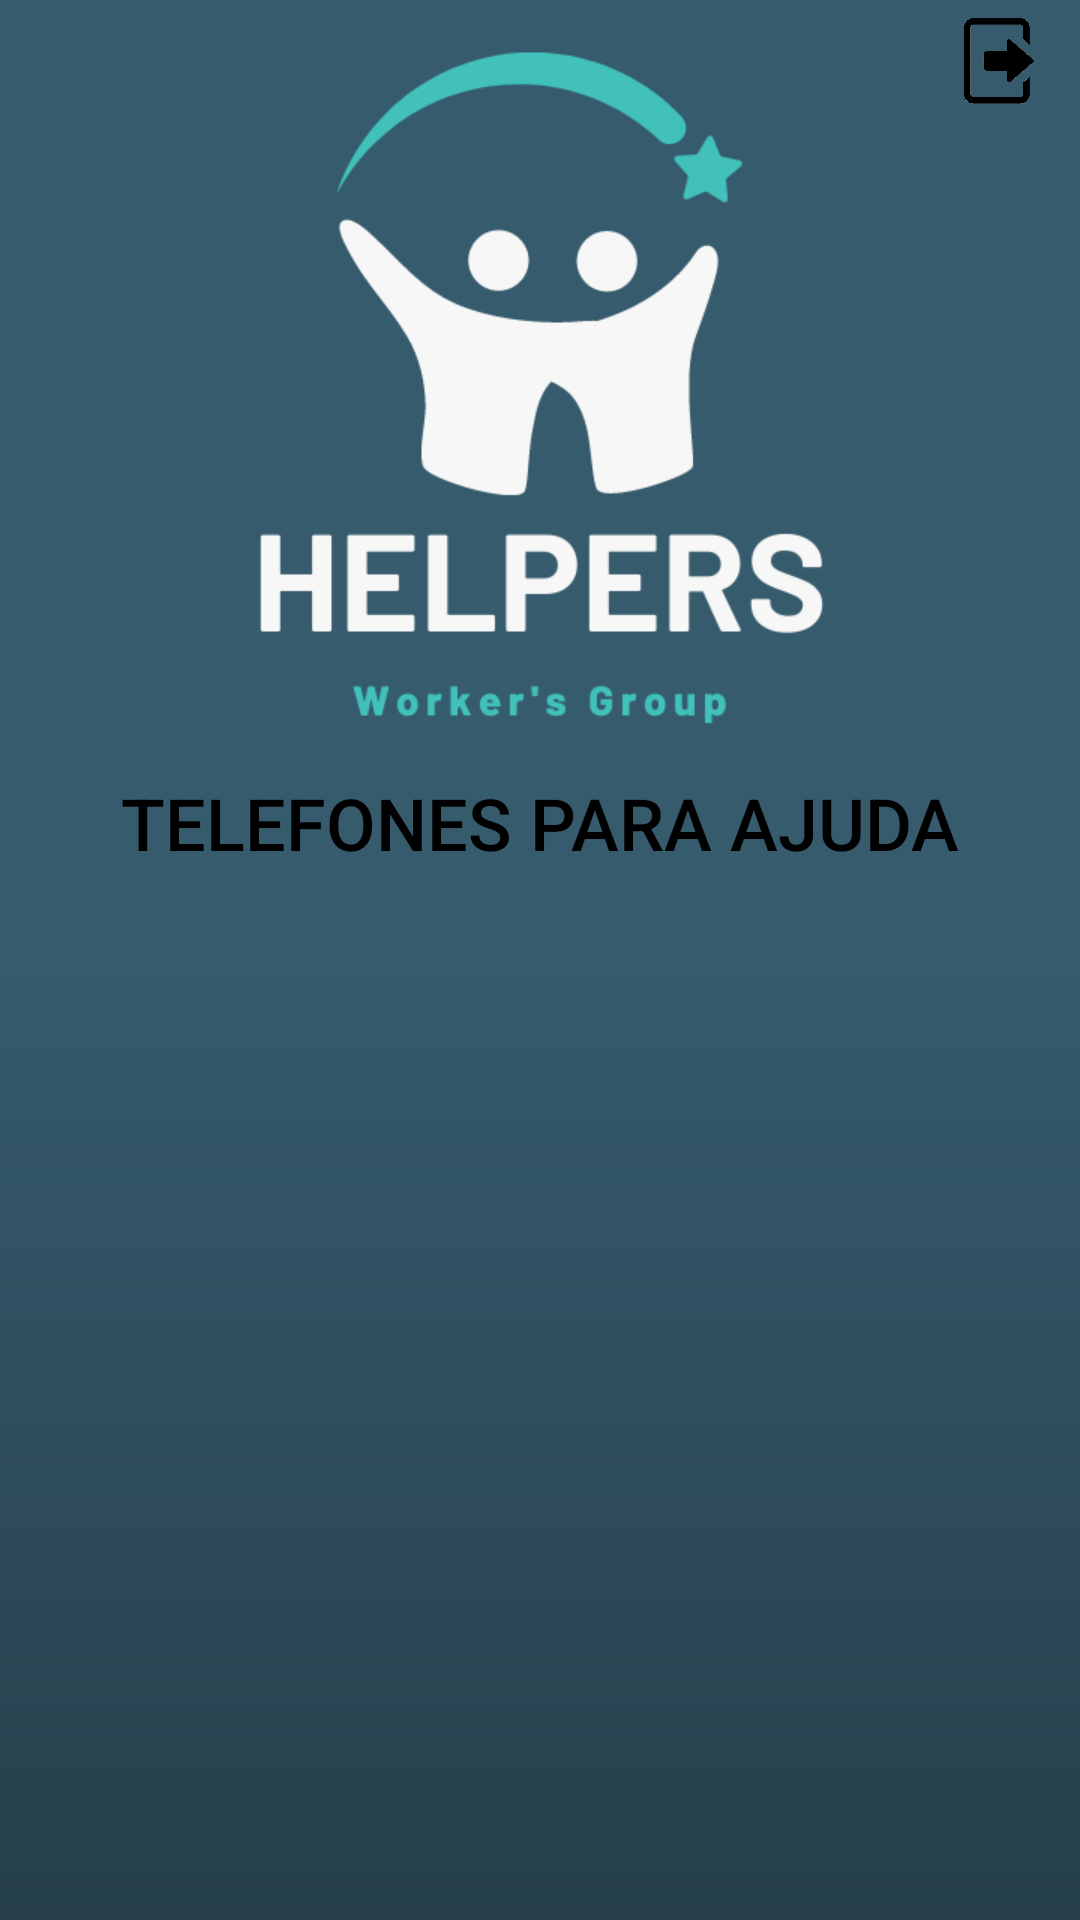

Where icons sit on this 1080x1920 app screen, as (x1, y1, x2, y2):
botaosair: (964, 18, 1034, 104)
